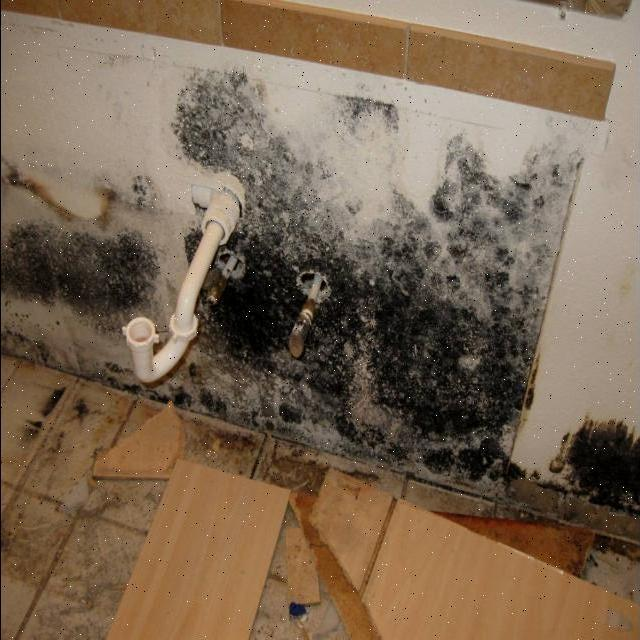leak: (122, 175, 245, 384)
